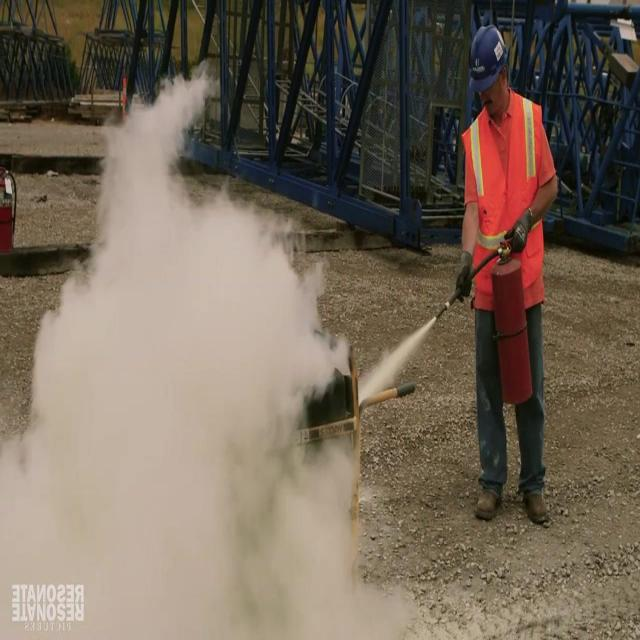Reflective-Jacket: (454, 95, 552, 315)
Safety-Helmet: (461, 18, 514, 94)
